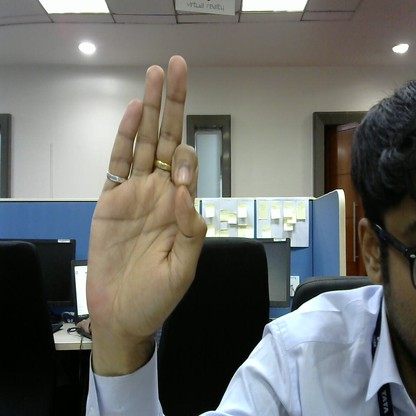f: (80, 46, 210, 352)
